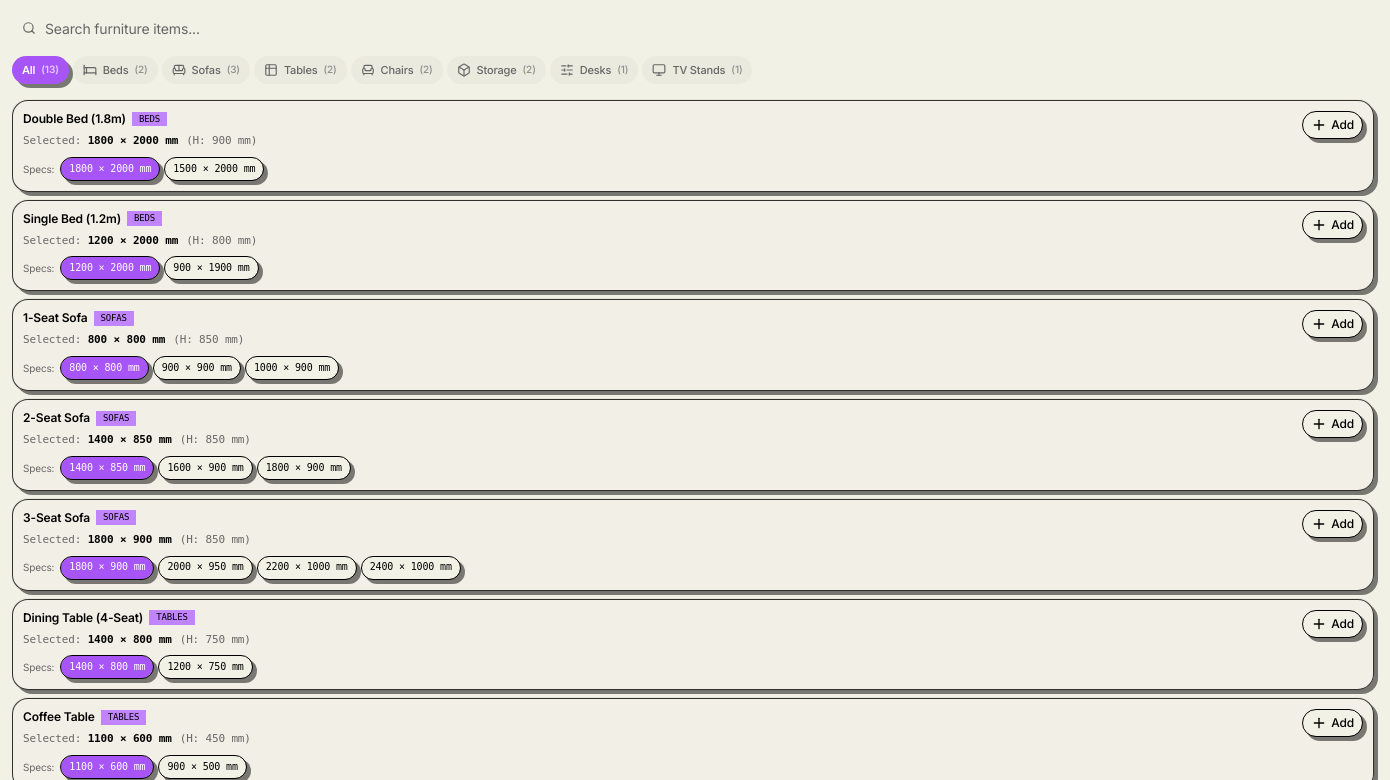
it: FurnitureCatalogPalette Component (US-10, AC-10) › filters items by selected category
The image size is (1390, 780).
Click the button with test id "category-filter-bed" at (115, 70), box [73,56,158,84]
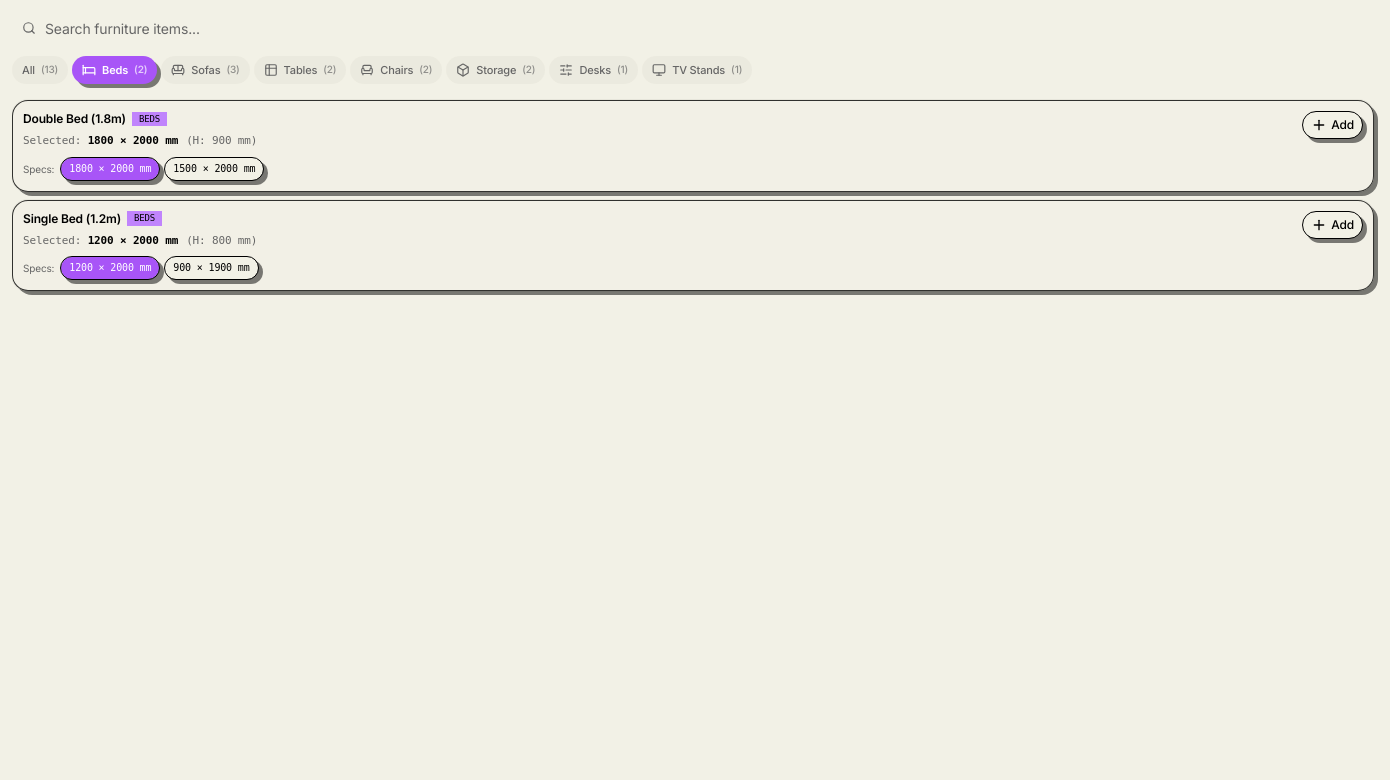
Expected: the element with test id "furniture-catalog-card-bed-double" is shown, [12,100,1374,192]
Expected: the element with test id "furniture-catalog-card-sofa-3seat" is gone
